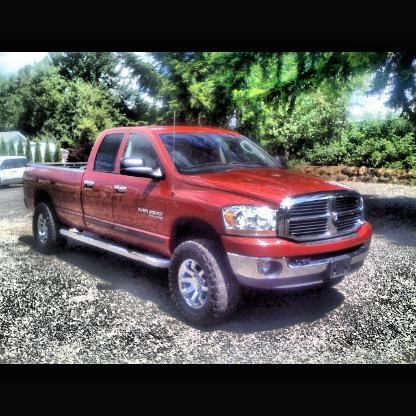Dodge Ram Pickup 3500 Quad Cab 2009: (26, 128, 372, 326)
